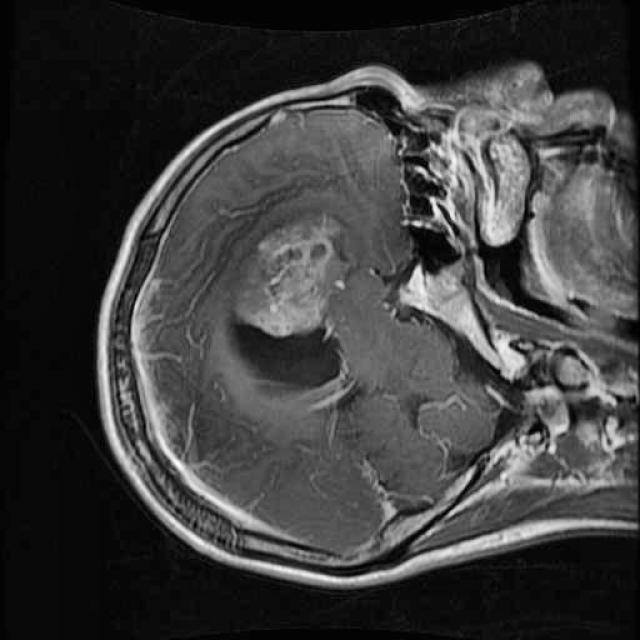Tumor: (223, 202, 356, 358)
